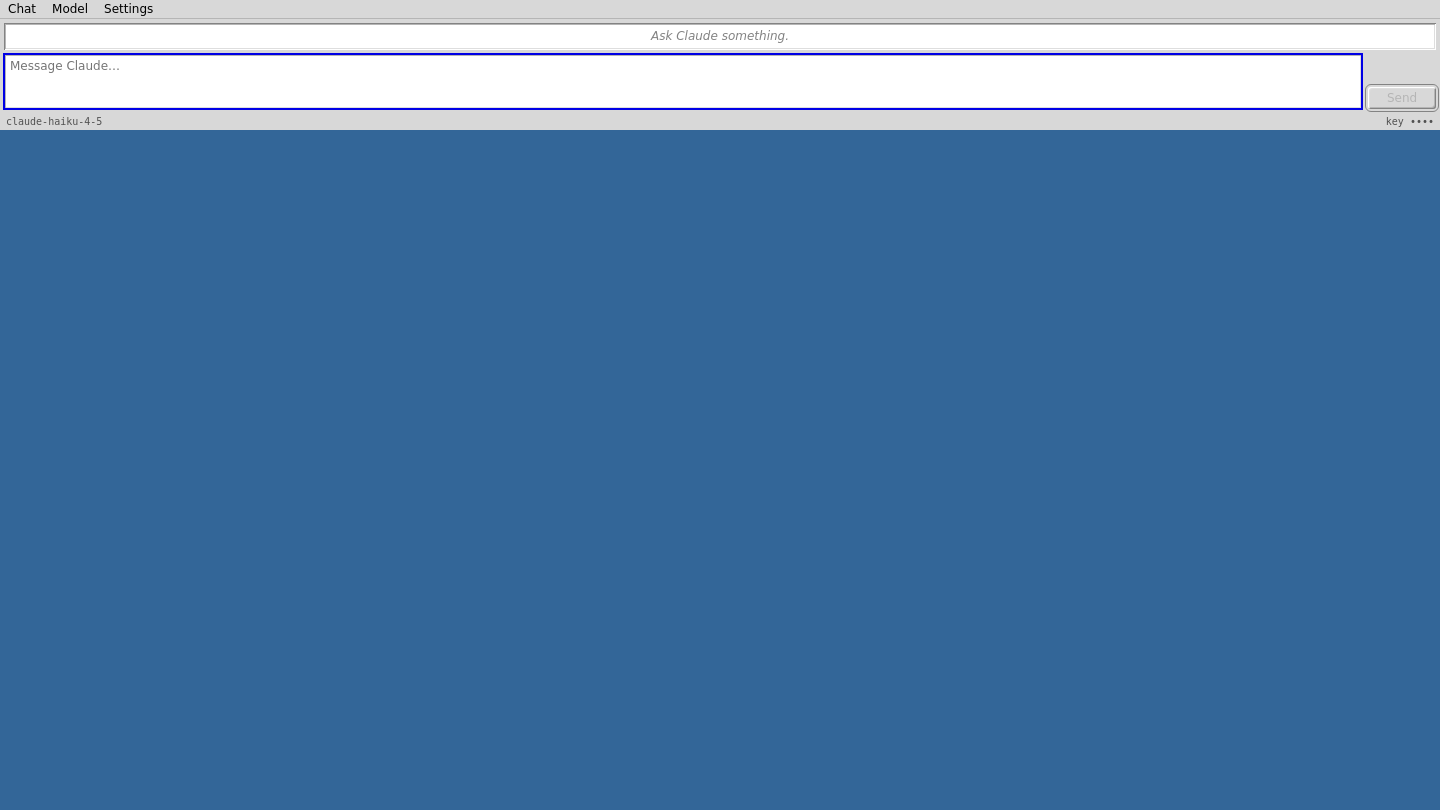
it: Claude chat › with a key set › reports a rejected key through an alert and drops the failed turn
The image size is (1440, 810).
Type "hi" into the text box with class "claude-input" at (683, 82), box x1=4 y1=54 x2=1362 y2=109
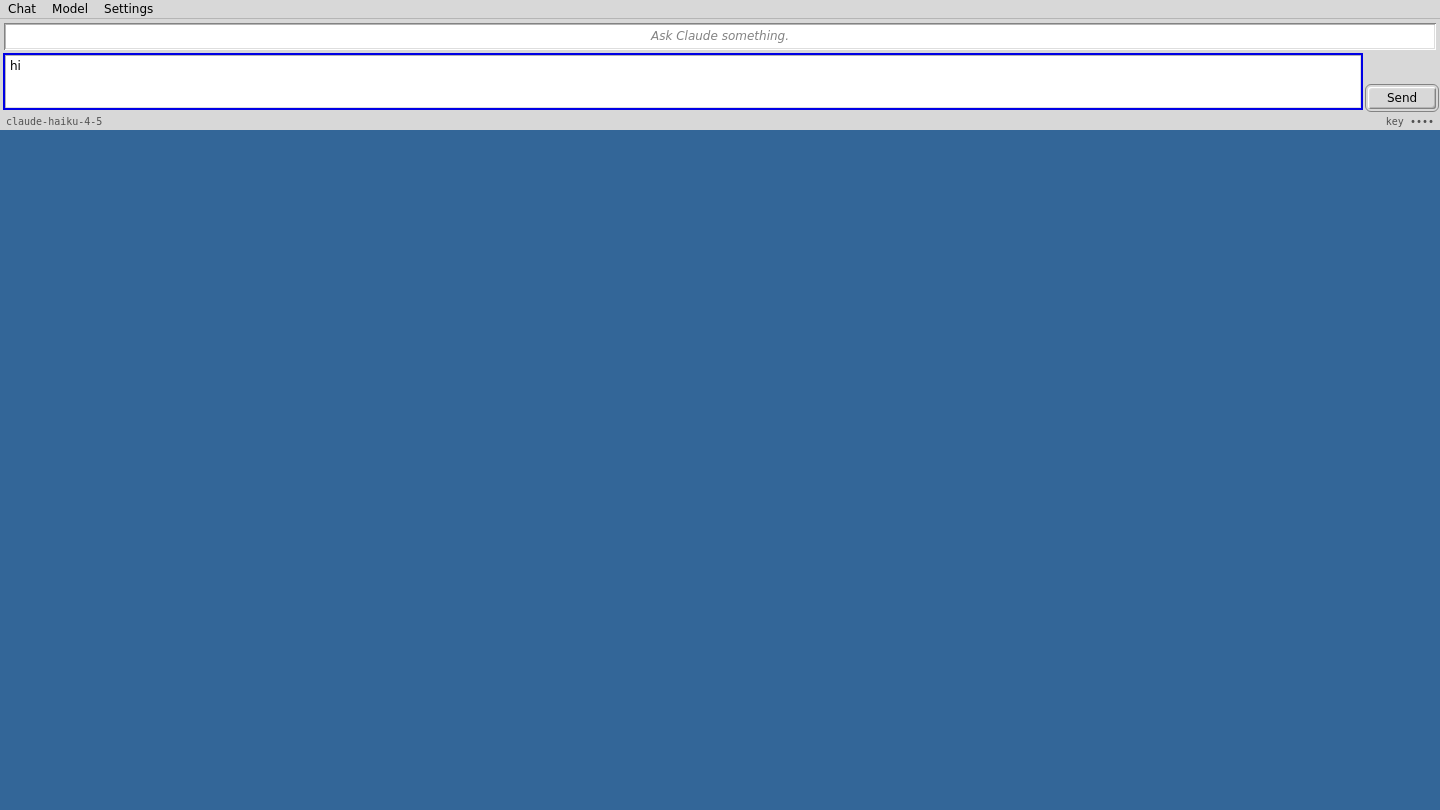
Click the button "Send" at (1402, 98), box x1=1368 y1=87 x2=1436 y2=109
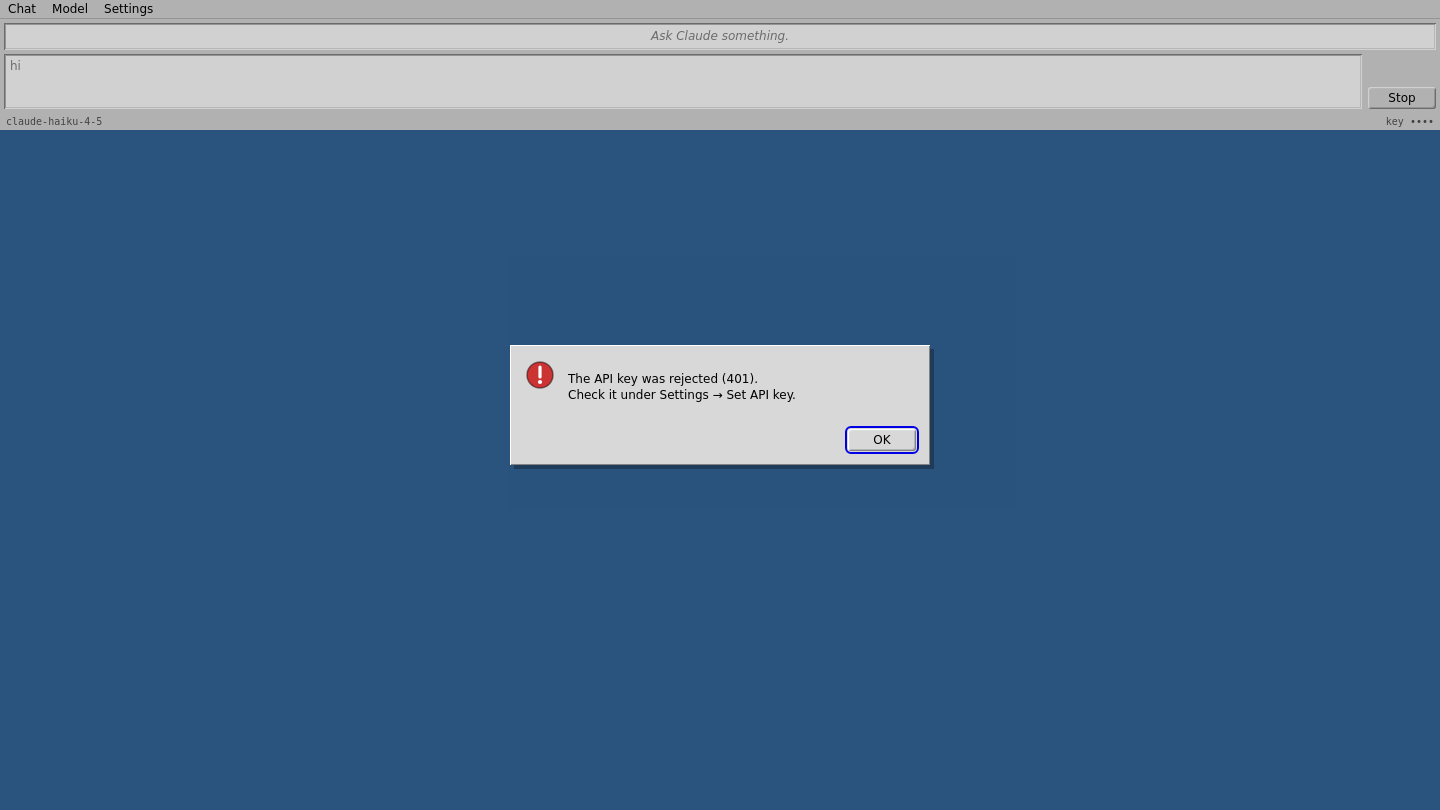
Expected: the text with class "b-alert-text" shows "401", x1=568 y1=372 x2=796 y2=402
Expected: the text with class "b-alert-text" shows "key", x1=568 y1=372 x2=796 y2=402
Click the button with class "b-button" showing "OK" at (882, 440), box x1=848 y1=429 x2=916 y2=451
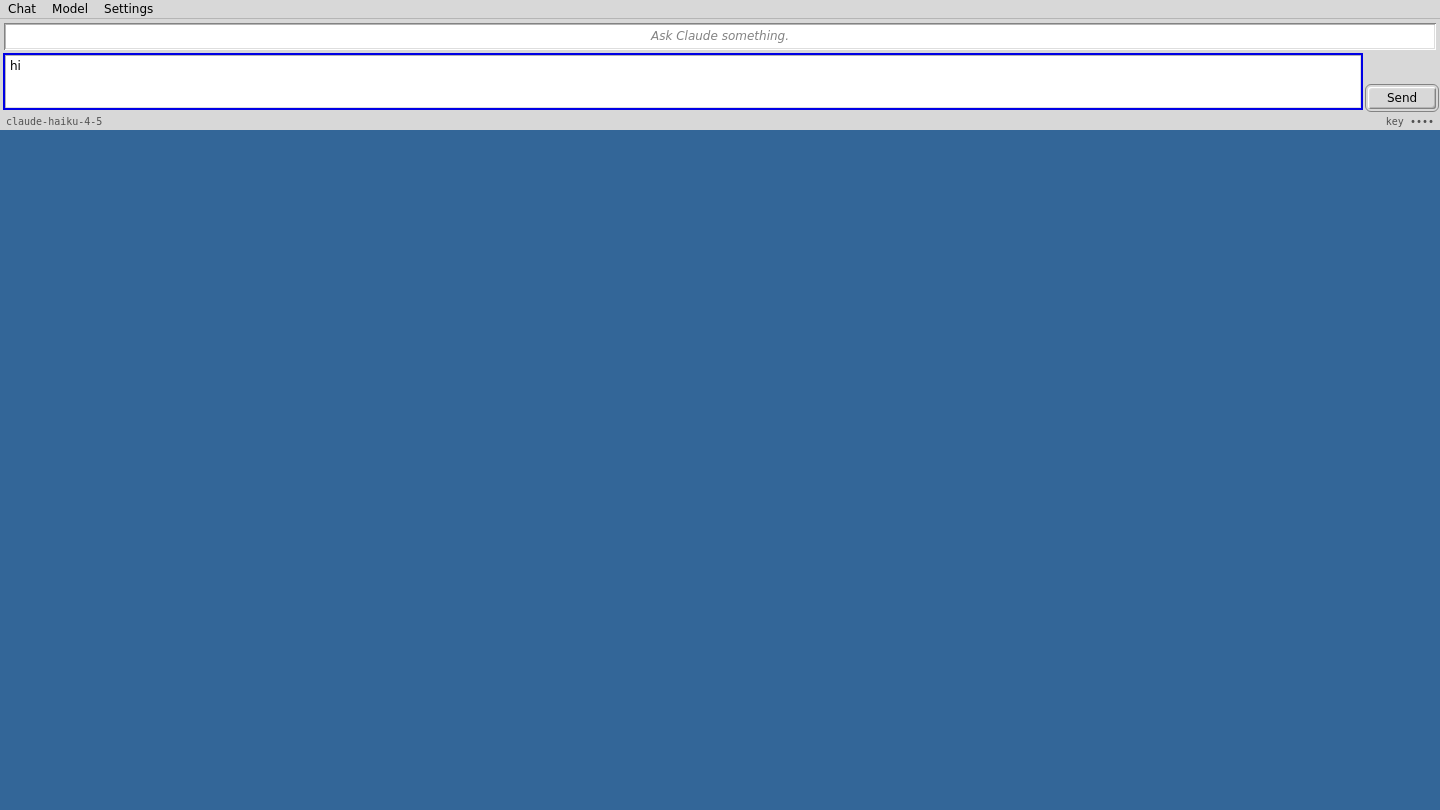
Expected: the dialog with class "b-alert" is gone
